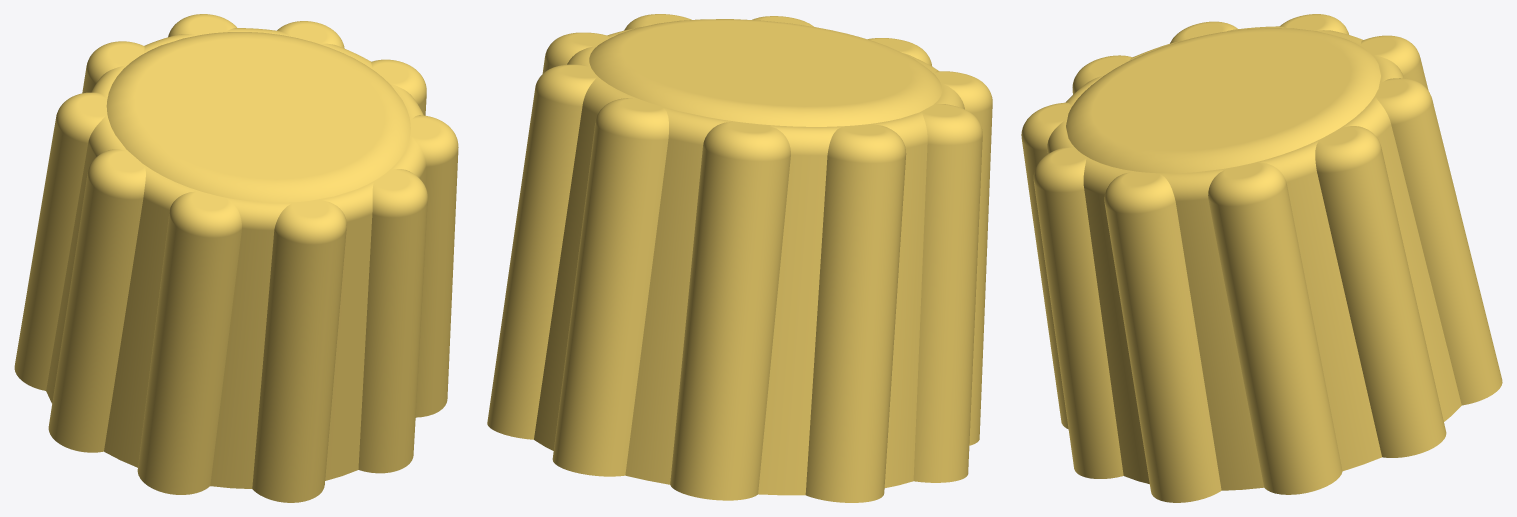
The model's file is elektra_boiler_cap.gltf.
The picture shows the model from 3 angles, left to right: view 1: azimuth 30°, elevation 25°; view 2: azimuth 150°, elevation 25°; view 3: azimuth 270°, elevation 25°; orthographic projection. The views are drawn at different scales.
Visible parts, largest first — view 1: Body1; view 2: Body1; view 3: Body1.
Boxes of the visible parts, left/top/right/bottom form: Body1: left=14, top=14, right=458, bottom=502; Body1: left=487, top=14, right=992, bottom=502; Body1: left=1021, top=14, right=1502, bottom=502.
Bounding box in the file's own units: 4.25 × 3.79 × 4.51.
